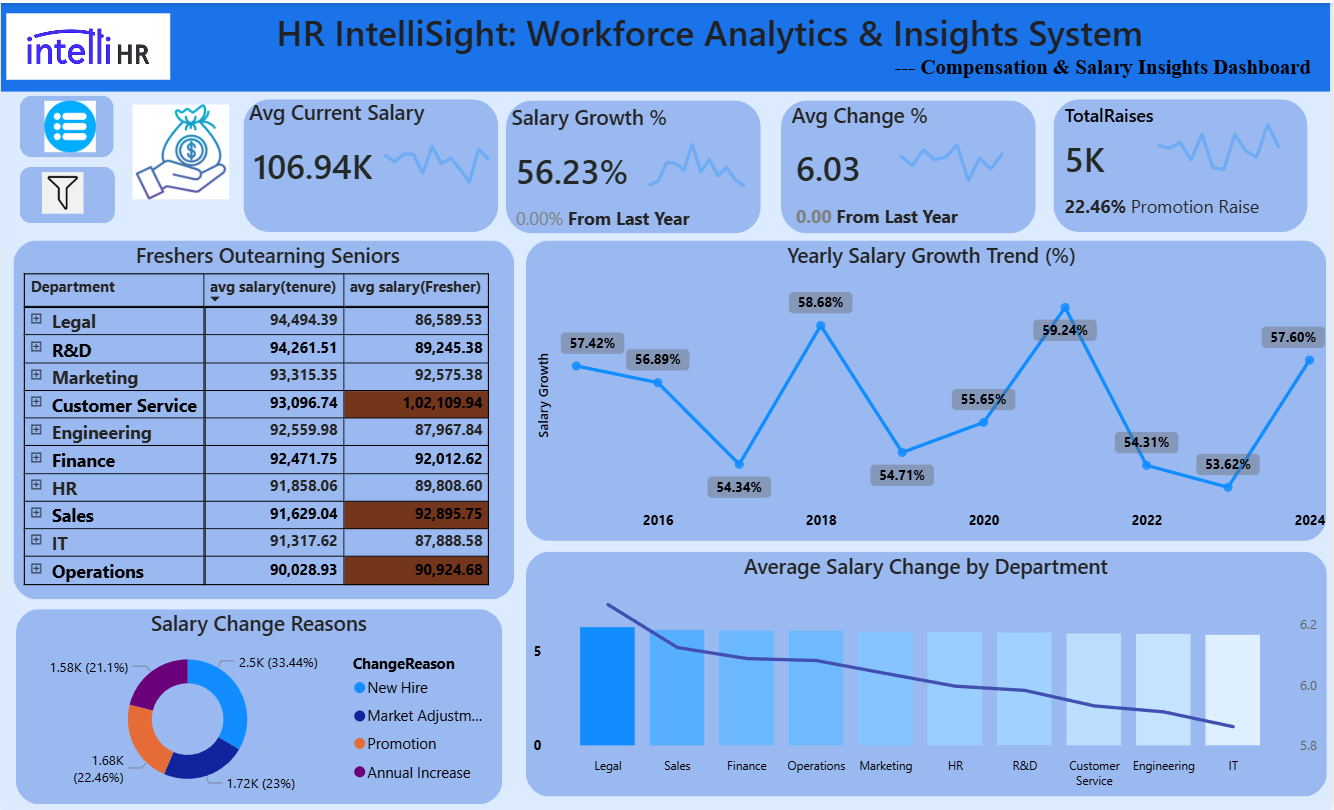

Layout of this report page (visuals, bound fields, positions):
{"tool":"powerbi","page":{"name":"Compensation & Salary Insights ","canvas":[1200,730],"ordinal":3},"visuals":[{"type":"shape","box":[0,1.2,1203.8,75],"z":0,"group":"g9"},{"type":"group","id":"g1","title":"Group 3","box":[17,84,85,56],"z":0},{"type":"shape","box":[17,84,85,56],"z":0,"group":"g1"},{"type":"image","box":[24.7,84,75.6,56],"z":0,"group":"g4"},{"type":"group","id":"g2","title":"Group 4","box":[887,85,230,120],"z":0,"group":"g13"},{"type":"shape","box":[887,85,229.2,120],"z":0,"group":"g2"},{"type":"shape","box":[640,86,230,120],"z":0,"group":"g7"},{"type":"group","id":"g3","title":"Group 3","box":[17,148,86,51],"z":0,"group":"g8"},{"type":"shape","box":[17,148,86,51],"z":0,"group":"g3"},{"type":"shape","box":[11,214,452,324],"z":0,"group":"g16"},{"type":"shape","box":[0,0,1200,80],"z":1000},{"type":"pageNavigator","box":[23.8,0,1131.2,76.2],"z":1000,"group":"g9"},{"type":"group","id":"g4","title":"Group 2","box":[24.7,84,75.6,56],"z":1000,"group":"g1"},{"type":"image","box":[17,148,77.9,47],"z":1000,"group":"g8"},{"type":"pivotTable","title":"Freshers Outearning Seniors","fields":{"Rows":["01_Employee_Master_Fact.Department","01_Employee_Master_Fact.JobTitle"],"Values":["01_Employee_Master_Fact.avg salary(tenure)","01_Employee_Master_Fact.avg salary(Fresher)"]},"box":[15,214,450,324],"z":1000,"group":"g16"},{"type":"group","id":"g5","title":"Group 14","box":[141,85,255,124],"z":1500},{"type":"textbox","box":[0,0,1280,80],"z":2000},{"type":"image","box":[1155,2.5,45,41.2],"z":2000,"group":"g9"},{"type":"image","box":[0,5,157.5,70],"z":3000},{"type":"shape","box":[141.2,86,230,120],"z":4000,"group":"g5"},{"type":"group","id":"g6","title":"Group 1","box":[11,214,454,324],"z":4000},{"type":"group","id":"g7","title":"Group 3","box":[640,86,230,120],"z":5000,"group":"g14"},{"type":"group","id":"g8","title":"Group 4","box":[17,148,86,51],"z":5000},{"type":"shape","box":[474,214,722.5,271.2],"z":6000,"group":"g10"},{"type":"group","id":"g9","title":"Menu_Card","box":[0,0,1203.8,76.2],"z":7000},{"type":"shape","box":[14,547,439,176],"z":7000,"group":"g11"},{"type":"shape","box":[387,86,230,120],"z":8000,"group":"g15"},{"type":"group","id":"g10","title":"Group 8","box":[474,214,726,271],"z":8000},{"type":"cardVisual","fields":{"Data":["03_Salary_History_Dim.TotalRaises"]},"box":[887,73,256,128],"z":9000,"group":"g13"},{"type":"card","fields":{"Values":["Count(03_Salary_History_Dim.ChangeID)"]},"box":[148,638,51,25],"z":9000},{"type":"group","id":"g11","title":"Group 9","box":[14,547,439,176],"z":10000},{"type":"group","id":"g12","title":"Group 10","box":[474,495,723,222],"z":11000},{"type":"donutChart","title":"Salary Change Reasons","fields":{"Y":["CountNonNull(03_Salary_History_Dim.ChangeID)"],"Category":["03_Salary_History_Dim.ChangeReason"]},"box":[15,547,436,174],"z":11000,"group":"g11"},{"type":"group","id":"g13","title":"Group 11","box":[887,73,256,132],"z":12000},{"type":"lineChart","title":"Yearly Salary Growth Trend (%)","fields":{"Y":["03_Salary_History_Dim.SalaryGrowth %"],"Category":["Calendar.Year"]},"box":[479.2,214.2,721,271],"z":12000,"group":"g10"},{"type":"shape","box":[474,495,723,221],"z":12000,"group":"g12"},{"type":"group","id":"g14","title":"Group 12","box":[640,86,230,120],"z":13000},{"type":"lineStackedColumnComboChart","title":"Average Salary Change by Department","fields":{"Category":["01_Employee_Master_Fact.Department"],"Y2":["03_Salary_History_Dim.AvgChangePercent"],"Y":["03_Salary_History_Dim.AvgChangePercent"]},"box":[474,495,722,222],"z":13000,"group":"g12"},{"type":"group","id":"g15","title":"Group 13","box":[387,86,253.3,128],"z":15000},{"type":"image","box":[1124,98,72,76],"z":16000},{"type":"cardVisual","title":"Avg Change %","fields":{"Data":["03_Salary_History_Dim.AvgChangePercent"]},"box":[645,86,220,116],"z":18000,"group":"g14"},{"type":"cardVisual","title":"Salary Growth %","fields":{"Data":["03_Salary_History_Dim.SalaryGrowth %"]},"box":[387,88,230,126],"z":20000,"group":"g15"},{"type":"cardVisual","title":"Avg Current Salary","fields":{"Data":["03_Salary_History_Dim.AvgCurrentSalary"]},"box":[141,85,220,124],"z":22000,"group":"g5"},{"type":"lineChart","fields":{"Category":["Calendar.Month"],"Y":["03_Salary_History_Dim.TotalRaises"]},"box":[958,87,178,70],"z":22500,"group":"g13"},{"type":"group","id":"g16","title":"Group 7","box":[11,214,454,324],"z":23005,"group":"g6"},{"type":"lineChart","fields":{"Y":["03_Salary_History_Dim.AvgChangePercent"],"Category":["Calendar.Year"]},"box":[683,111,182,70],"z":25500,"group":"g14"},{"type":"lineChart","fields":{"Category":["Calendar.Month"],"Y":["03_Salary_History_Dim.AvgCurrentSalary"]},"box":[240,112,156,70],"z":26500,"group":"g5"},{"type":"lineChart","fields":{"Category":["Calendar.Month"],"Y":["03_Salary_History_Dim.SalaryGrowth %"]},"box":[494.8,103.8,145.6,70],"z":30500,"group":"g15"}]}

Visuals, with their boxes in screenshot pixels (x1, y1, x2, y2), scaled from the page's 1200x730 canvas onto the 1334x810 screenshot:
shape: (left=0, top=1, right=1333, bottom=85)
"Group 3" group: (left=19, top=93, right=113, bottom=155)
shape: (left=19, top=93, right=113, bottom=155)
image: (left=27, top=93, right=112, bottom=155)
"Group 4" group: (left=986, top=94, right=1242, bottom=227)
shape: (left=986, top=94, right=1241, bottom=227)
shape: (left=711, top=95, right=967, bottom=229)
"Group 3" group: (left=19, top=164, right=115, bottom=221)
shape: (left=19, top=164, right=115, bottom=221)
shape: (left=12, top=237, right=515, bottom=597)
shape: (left=0, top=0, right=1333, bottom=89)
pageNavigator: (left=26, top=0, right=1284, bottom=85)
"Group 2" group: (left=27, top=93, right=112, bottom=155)
image: (left=19, top=164, right=105, bottom=216)
"Freshers Outearning Seniors" pivotTable: (left=17, top=237, right=517, bottom=597)
"Group 14" group: (left=157, top=94, right=440, bottom=232)
textbox: (left=0, top=0, right=1333, bottom=89)
image: (left=1284, top=3, right=1333, bottom=48)
image: (left=0, top=6, right=175, bottom=83)
shape: (left=157, top=95, right=413, bottom=229)
"Group 1" group: (left=12, top=237, right=517, bottom=597)
"Group 3" group: (left=711, top=95, right=967, bottom=229)
"Group 4" group: (left=19, top=164, right=115, bottom=221)
shape: (left=527, top=237, right=1330, bottom=538)
"Menu_Card" group: (left=0, top=0, right=1333, bottom=85)
shape: (left=16, top=607, right=504, bottom=802)
shape: (left=430, top=95, right=686, bottom=229)
"Group 8" group: (left=527, top=237, right=1333, bottom=538)
cardVisual - 03_Salary_History_Dim.TotalRaises: (left=986, top=81, right=1271, bottom=223)
card - Count(03_Salary_History_Dim.ChangeID): (left=165, top=708, right=221, bottom=736)
"Group 9" group: (left=16, top=607, right=504, bottom=802)
"Group 10" group: (left=527, top=549, right=1331, bottom=796)
"Salary Change Reasons" donutChart: (left=17, top=607, right=501, bottom=800)
"Group 11" group: (left=986, top=81, right=1271, bottom=227)
"Yearly Salary Growth Trend (%)" lineChart: (left=533, top=238, right=1333, bottom=538)
shape: (left=527, top=549, right=1331, bottom=794)
"Group 12" group: (left=711, top=95, right=967, bottom=229)
"Average Salary Change by Department" lineStackedColumnComboChart: (left=527, top=549, right=1330, bottom=796)
"Group 13" group: (left=430, top=95, right=712, bottom=237)
image: (left=1250, top=109, right=1330, bottom=193)
"Avg Change %" cardVisual: (left=717, top=95, right=962, bottom=224)
"Salary Growth %" cardVisual: (left=430, top=98, right=686, bottom=237)
"Avg Current Salary" cardVisual: (left=157, top=94, right=401, bottom=232)
lineChart - Calendar.Month x 03_Salary_History_Dim.TotalRaises: (left=1065, top=97, right=1263, bottom=174)
"Group 7" group: (left=12, top=237, right=517, bottom=597)
lineChart - 03_Salary_History_Dim.AvgChangePercent x Calendar.Year: (left=759, top=123, right=962, bottom=201)
lineChart - Calendar.Month x 03_Salary_History_Dim.AvgCurrentSalary: (left=267, top=124, right=440, bottom=202)
lineChart - Calendar.Month x 03_Salary_History_Dim.SalaryGrowth %: (left=550, top=115, right=712, bottom=193)
